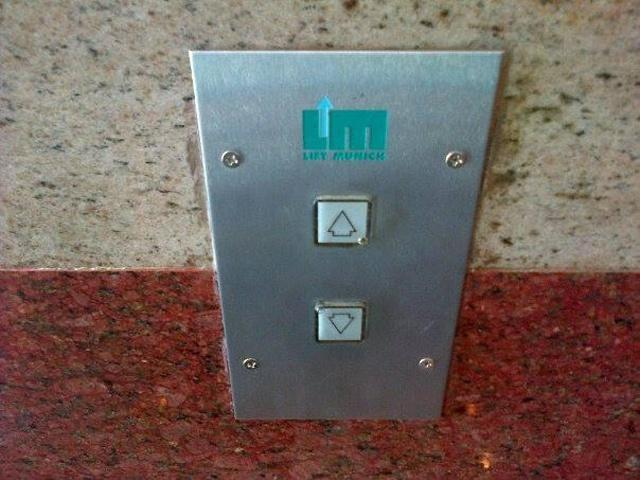down: (311, 298, 365, 344)
up: (311, 192, 370, 247)
